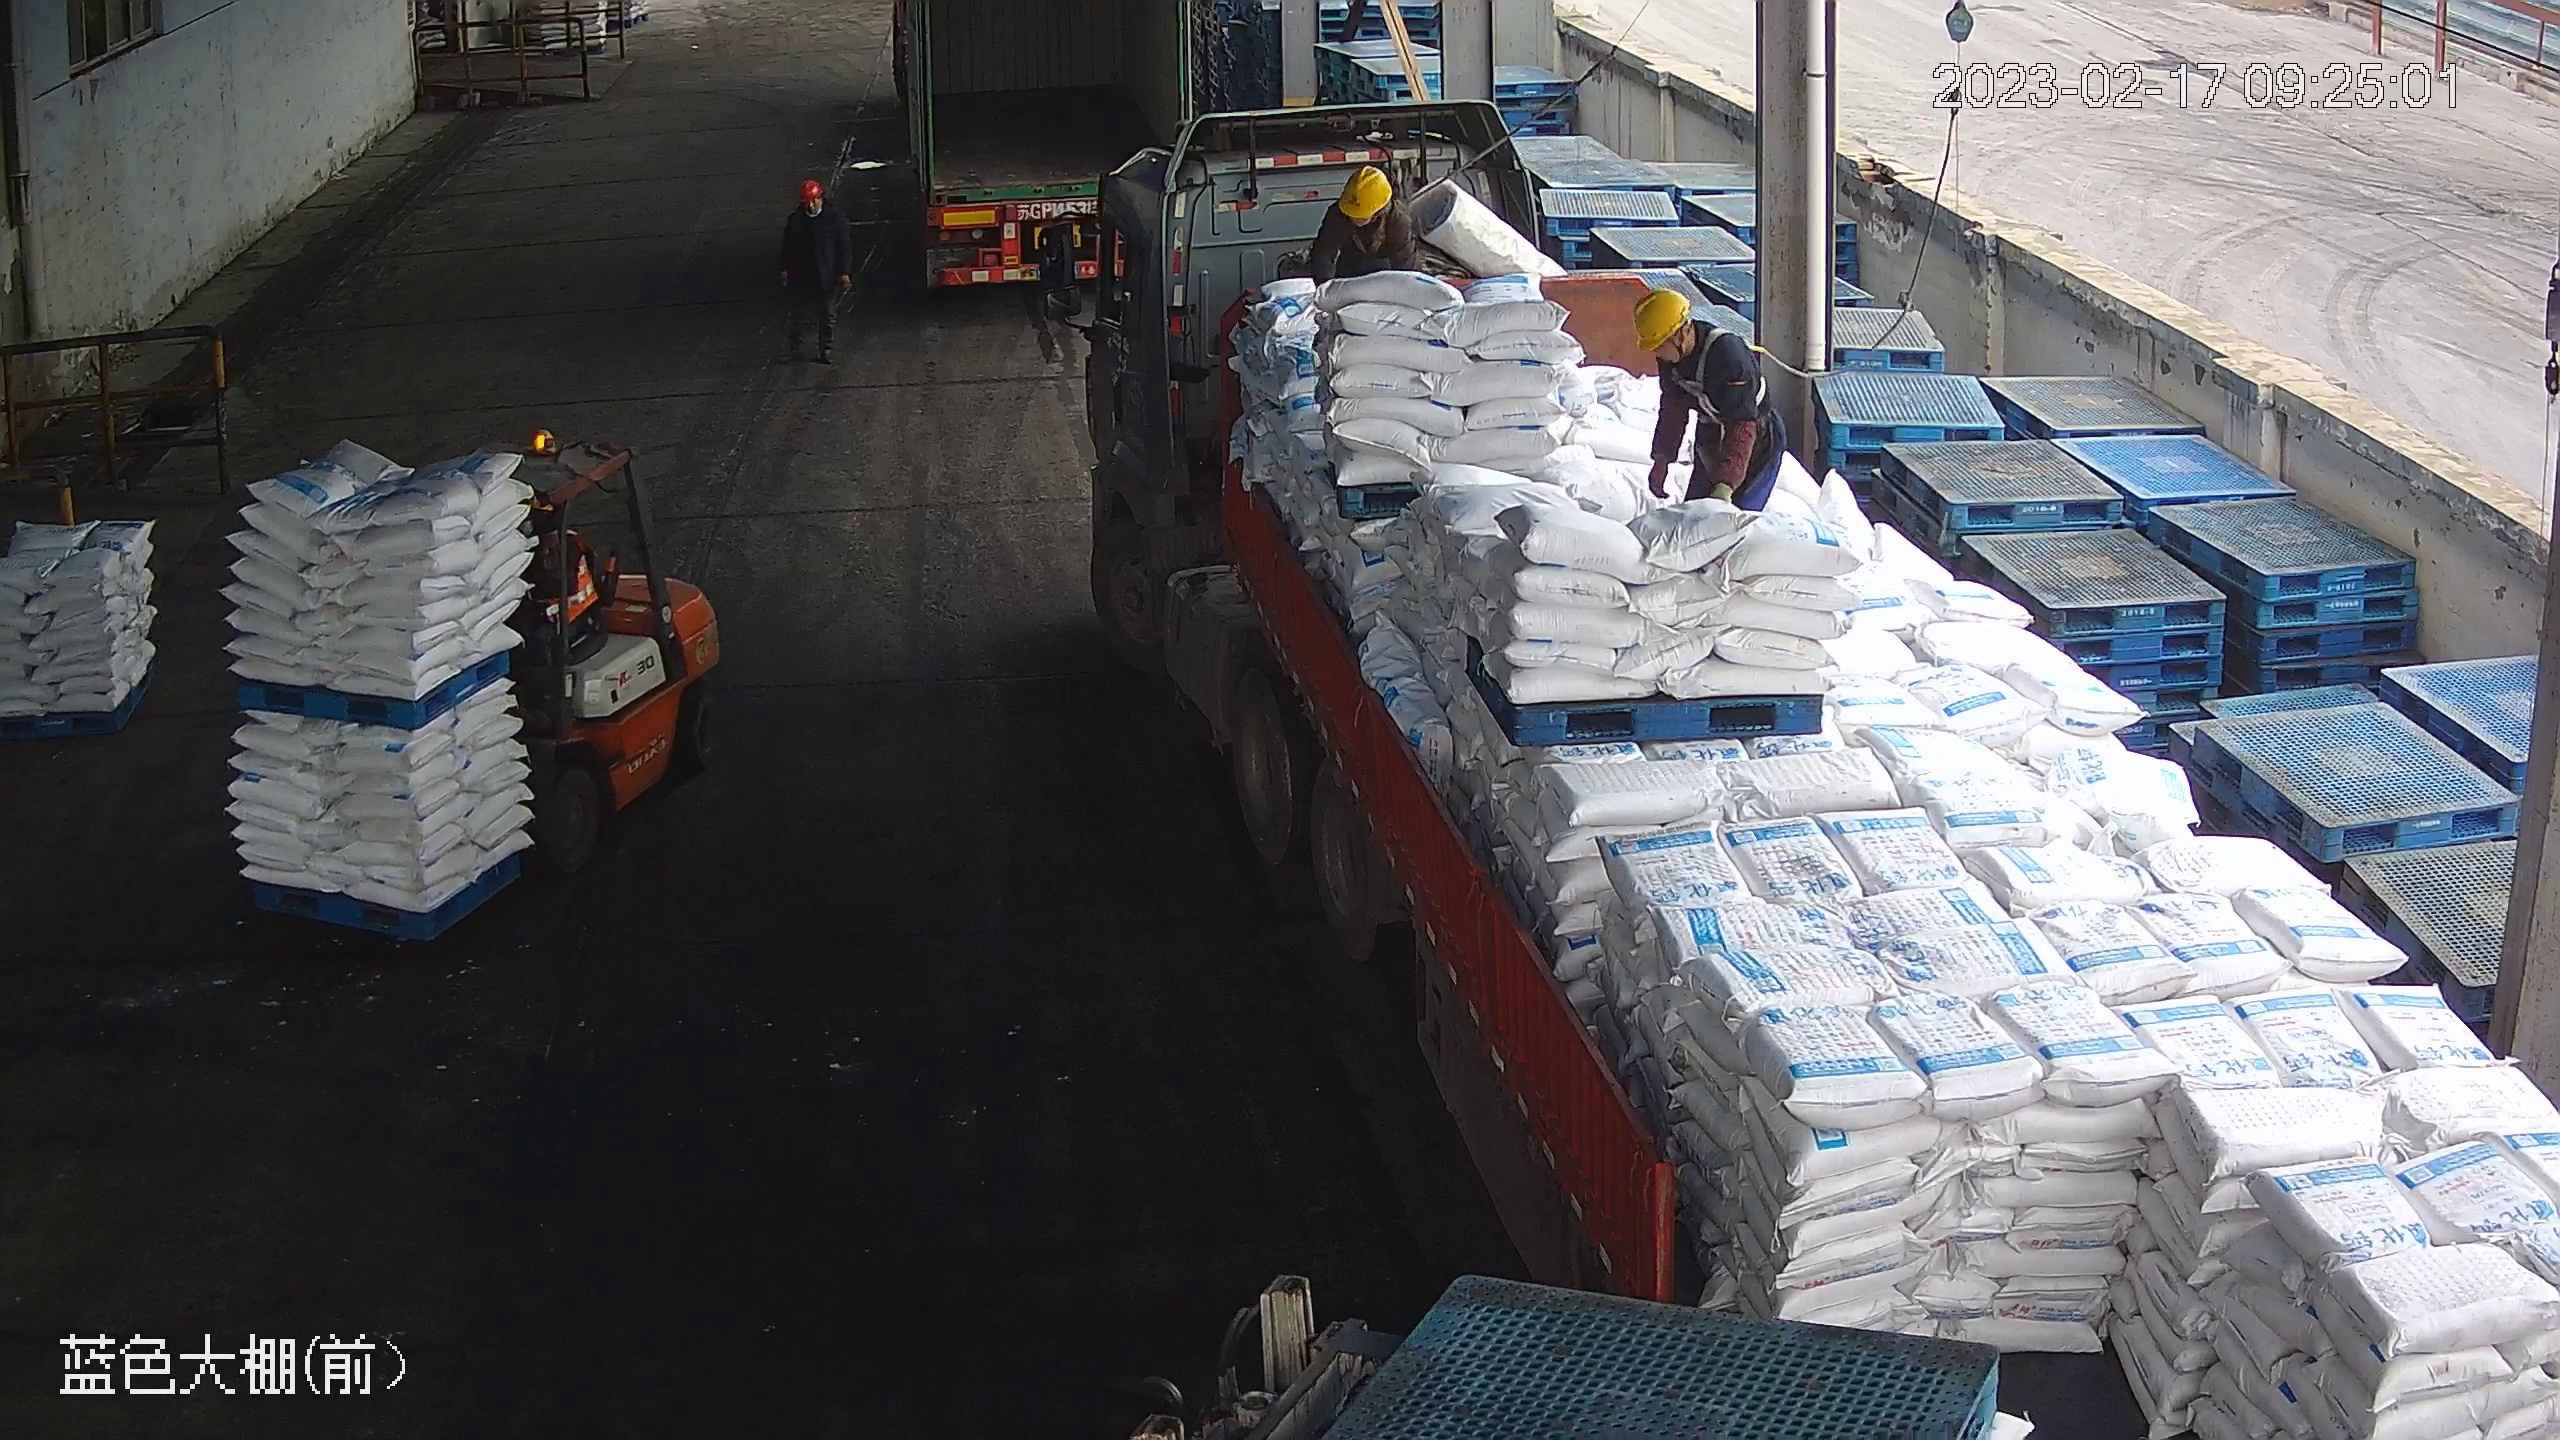belt: (1682, 328, 1769, 409), (1346, 220, 1391, 254)
head: (1631, 287, 1745, 383), (1326, 161, 1419, 250), (783, 175, 837, 233)
helmet: (1630, 288, 1692, 348), (1341, 161, 1394, 218), (798, 176, 826, 197)
people: (1630, 287, 1791, 516), (774, 173, 848, 366)
truck: (1030, 96, 2556, 1440), (858, 1, 1197, 290)
